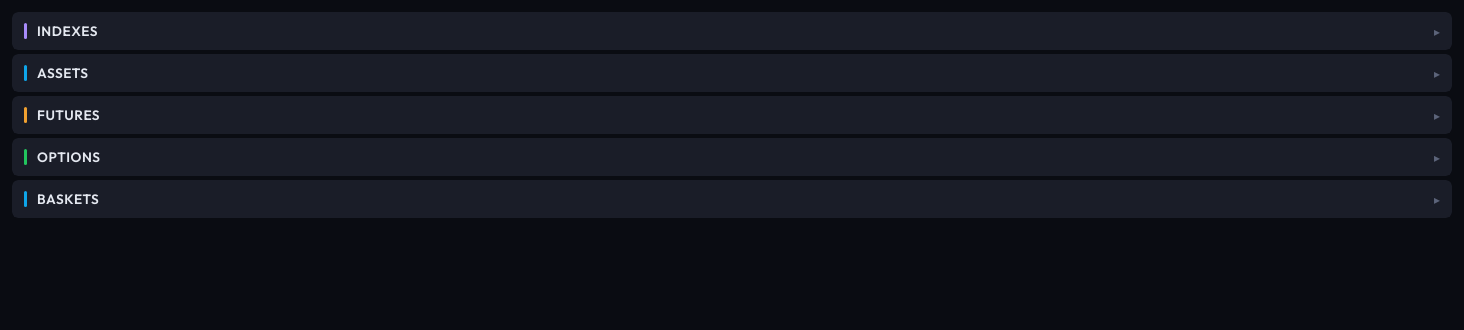
Test: Options expansion › fetches roots and renders all three when expanded
Click the button "Options ▸" at x=69, y=157, box [12, 138, 1452, 176]
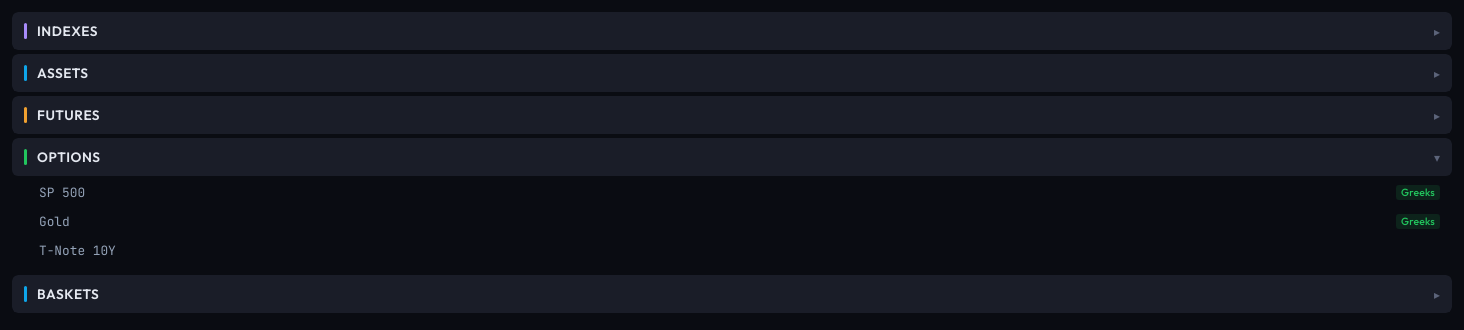
Expected: the text "SP 500" is shown, [39, 184, 85, 201]
Expected: the text "Gold" is shown, [39, 213, 70, 230]
Expected: the text "T-Note 10Y" is shown, [39, 242, 116, 259]
